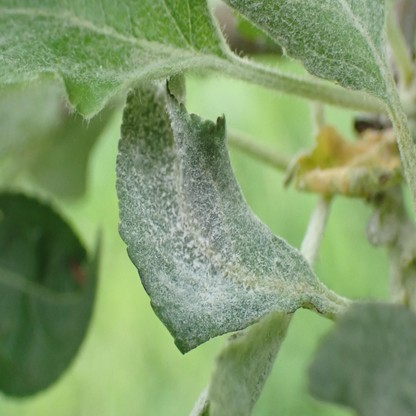powder: (116, 74, 326, 353), (0, 0, 222, 120), (222, 0, 388, 96), (313, 301, 416, 416), (191, 311, 296, 416)
